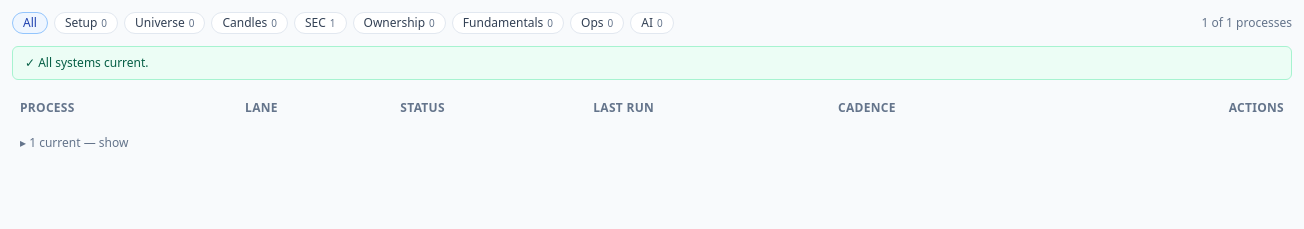
it: ProcessesTable › renders structured tooltip on 409 iterate_already_pending
Click the button "▸ 1 current — show" at (74, 143), box [20,135,128,151]
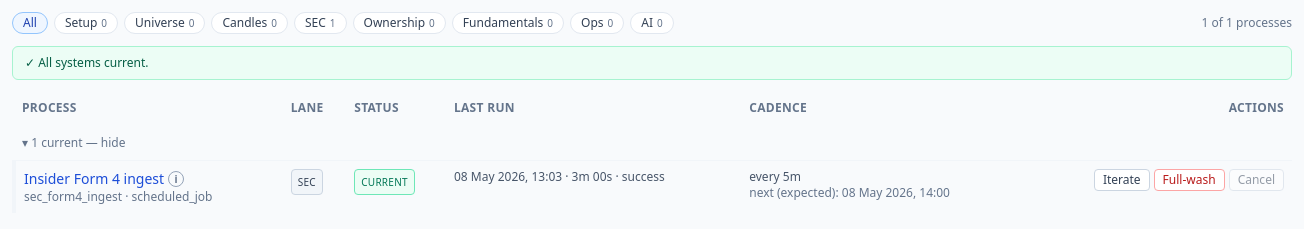
Click the button "Iterate" at (1122, 180), box [1094,169,1150,191]
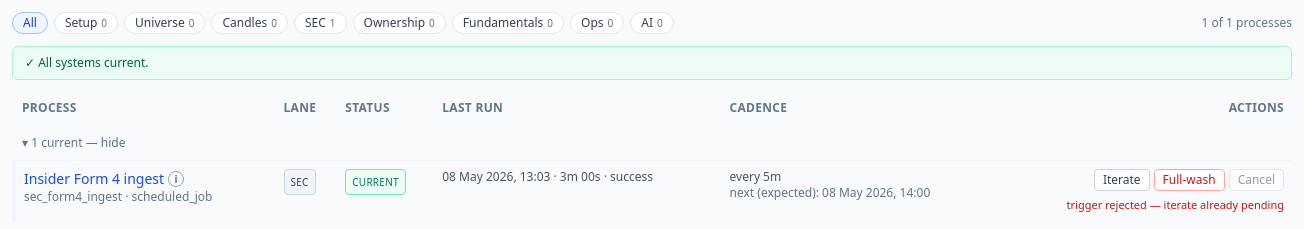
Check: the message "trigger rejected — iterate already pending" is shown, box [1066,197,1284,212]
Check: the message with test id "trigger-rejected" shows "iterate already pending", box [1164,197,1284,212]
